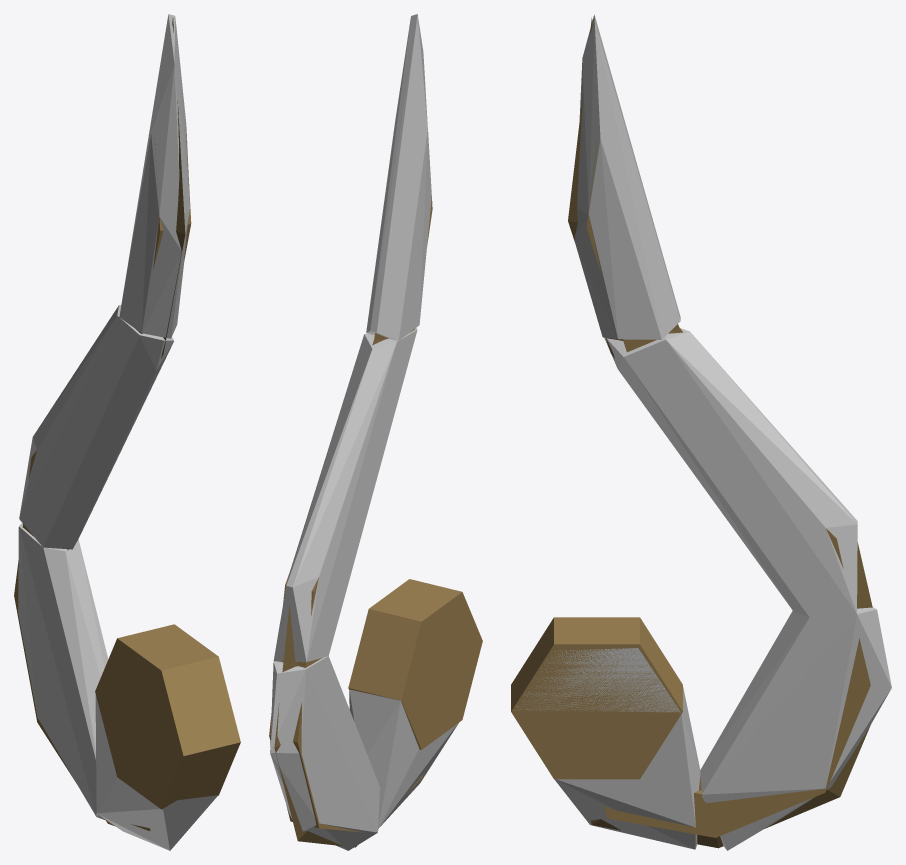
The model's file is SM_Prop_Clock_Pole_01_Hand_01.fbx.
The picture shows the model from 3 angles, left to right: view 1: azimuth 30°, elevation 25°; view 2: azimuth 150°, elevation 25°; view 3: azimuth 270°, elevation 25°; orthographic projection. The views are drawn at different scales.
Visible parts, largest first — view 1: SM_Prop_Clock_Pole_01_Hand_01_ConvexHulls, SM_Prop_Clock_Pole_01_Hand_01; view 2: SM_Prop_Clock_Pole_01_Hand_01_ConvexHulls, SM_Prop_Clock_Pole_01_Hand_01; view 3: SM_Prop_Clock_Pole_01_Hand_01_ConvexHulls, SM_Prop_Clock_Pole_01_Hand_01.
Part boxes in pixels (left/top/right/bottom): SM_Prop_Clock_Pole_01_Hand_01_ConvexHulls: left=18, top=14, right=217, bottom=850; SM_Prop_Clock_Pole_01_Hand_01: left=14, top=18, right=240, bottom=830; SM_Prop_Clock_Pole_01_Hand_01_ConvexHulls: left=270, top=14, right=458, bottom=850; SM_Prop_Clock_Pole_01_Hand_01: left=269, top=132, right=482, bottom=847; SM_Prop_Clock_Pole_01_Hand_01_ConvexHulls: left=515, top=14, right=891, bottom=850; SM_Prop_Clock_Pole_01_Hand_01: left=511, top=18, right=872, bottom=848.
Bounding box in the file's own units: 5.48 × 32.47 × 78.42.
2 materials, 1 textured.
